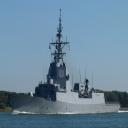Fragata: (6, 9, 122, 117)
